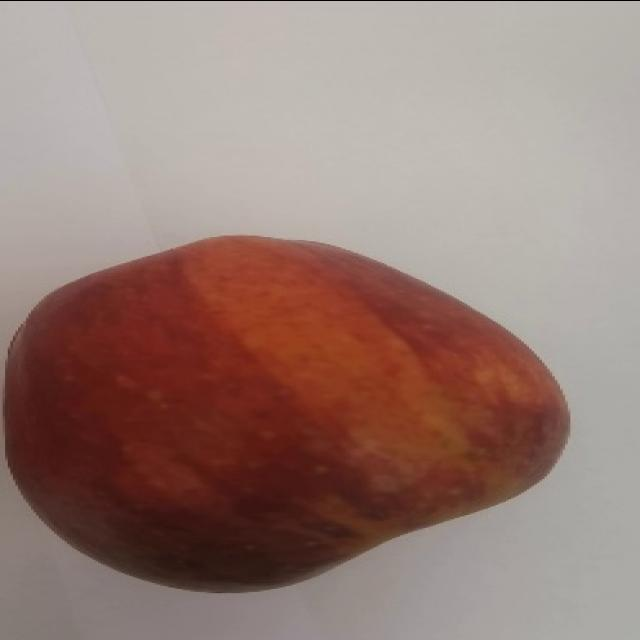Apple: (2, 232, 571, 594)
